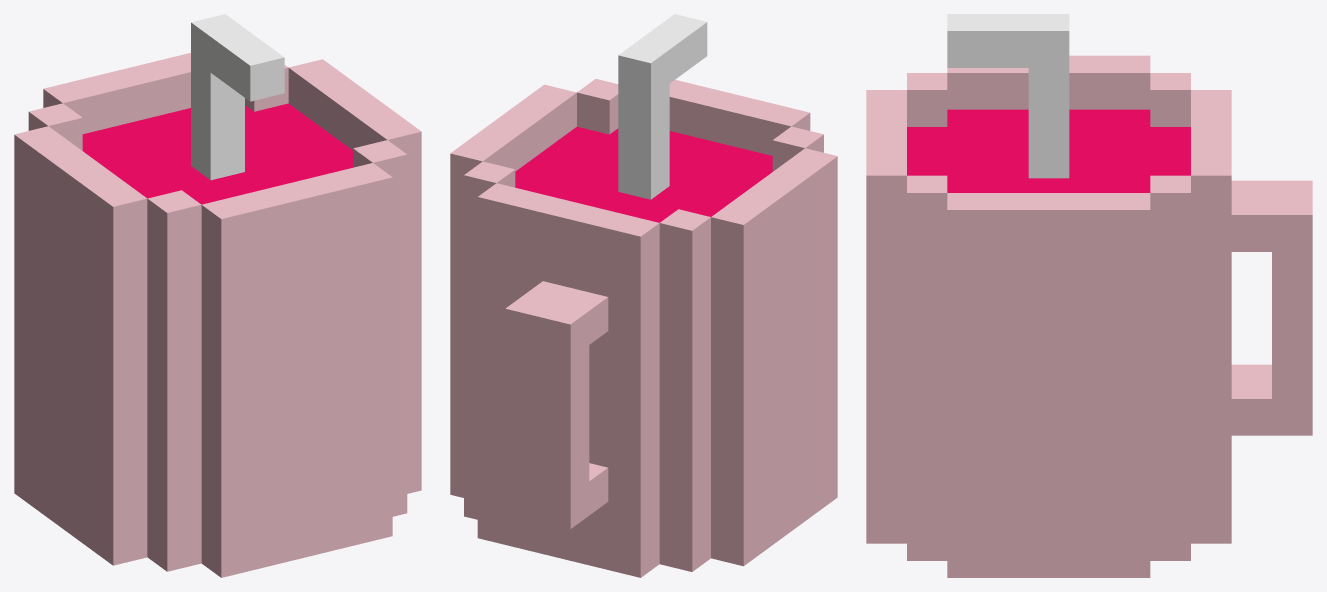
The model's file is juice.obj.
3 views of the same model, side by side, from view 1: azimuth 30°, elevation 25°; view 2: azimuth 150°, elevation 25°; view 3: azimuth 270°, elevation 25° (orthographic). The views are drawn at different scales.
Size of the model in its own units: 0.9 by 1.3 by 1.1.
1 material, 1 textured.
